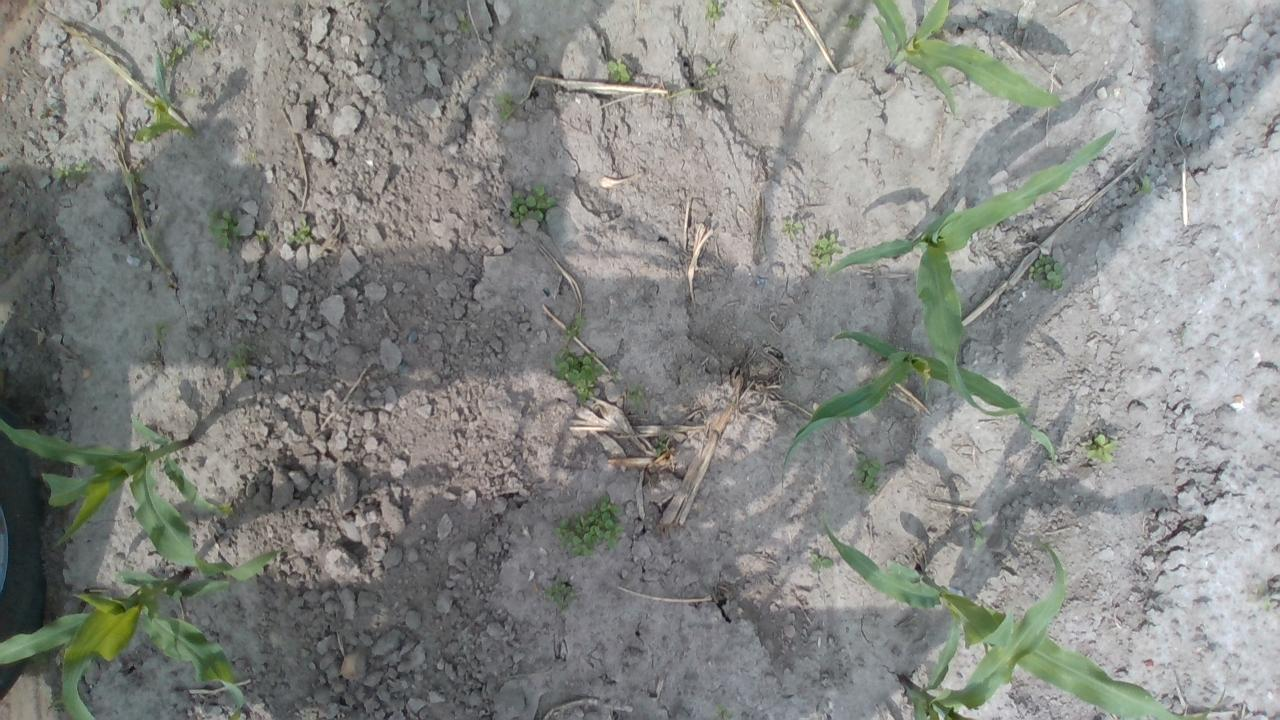Maize: (824, 127, 1116, 417), (821, 513, 1217, 720), (0, 550, 279, 720), (780, 332, 1056, 480), (0, 413, 232, 577), (898, 542, 1067, 720), (868, 0, 1072, 120), (124, 40, 189, 144)
Weeds: (551, 491, 625, 560), (552, 347, 604, 405), (134, 94, 182, 142), (510, 180, 558, 227), (206, 206, 240, 251), (1027, 253, 1065, 291), (808, 232, 842, 270), (855, 450, 883, 496), (543, 576, 576, 612), (226, 342, 256, 379), (52, 159, 95, 184), (1084, 433, 1116, 465), (285, 219, 312, 246), (806, 549, 834, 575), (606, 57, 632, 83), (495, 91, 517, 120), (564, 310, 586, 338), (188, 25, 211, 49), (781, 218, 804, 241), (1254, 585, 1274, 610), (625, 382, 642, 409), (703, 0, 722, 23), (971, 520, 986, 549), (712, 703, 737, 720), (166, 45, 184, 65), (652, 433, 669, 454), (126, 170, 144, 188), (151, 320, 167, 338), (846, 13, 862, 30), (220, 498, 232, 519), (253, 228, 270, 242), (1139, 173, 1151, 192), (458, 16, 472, 32), (158, 0, 176, 11), (705, 62, 718, 77), (612, 369, 622, 384), (38, 109, 49, 122), (120, 7, 130, 16), (182, 0, 193, 6)
